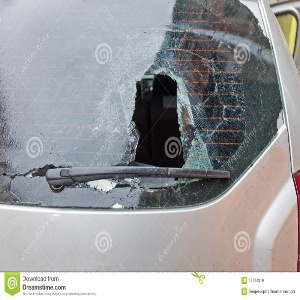rear_windshield_glass: (112, 56, 224, 171)
